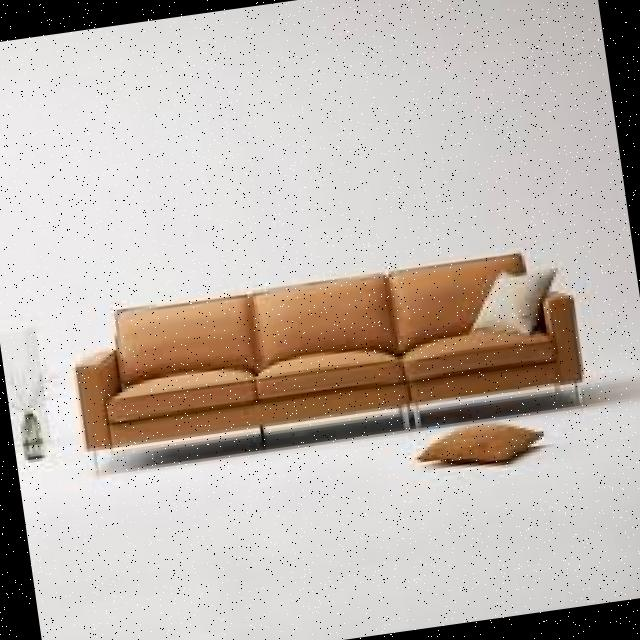Sofa: (38, 199, 610, 528)
